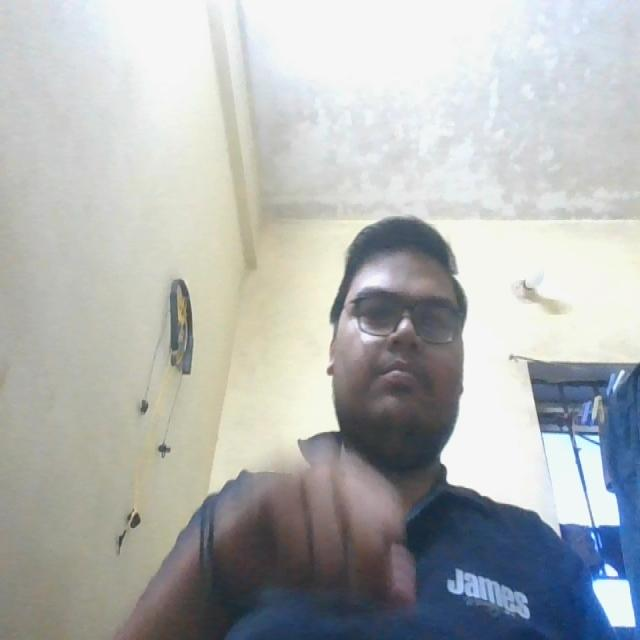Yes: (218, 421, 424, 640)
